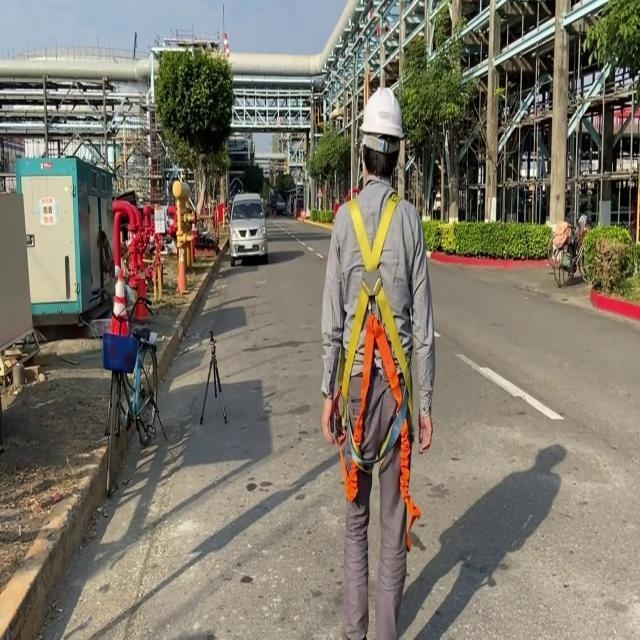Arnes_seguridad: (340, 195, 419, 492)
